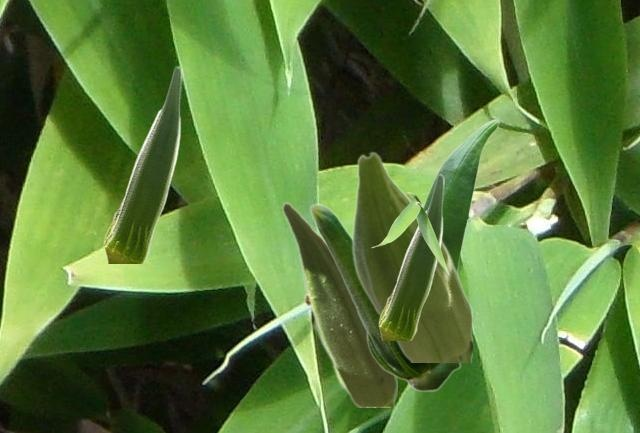okra: (309, 203, 460, 391), (351, 151, 471, 361), (281, 201, 396, 406), (103, 65, 181, 262), (423, 118, 499, 270), (378, 173, 443, 339)
